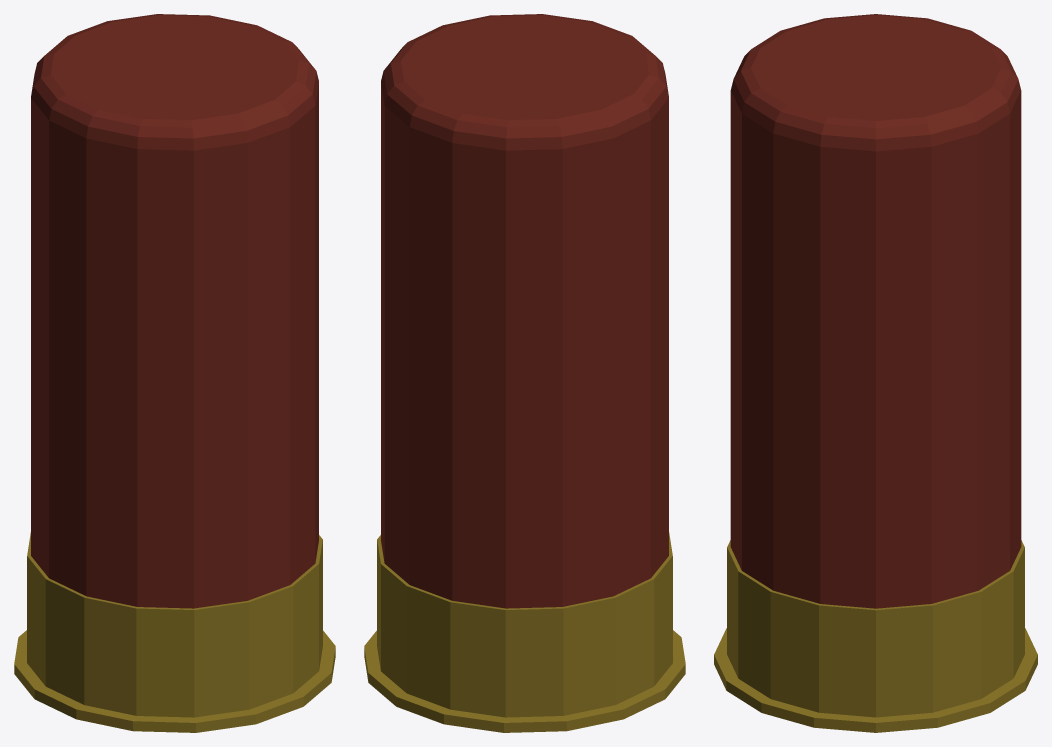
Rendered from Weapon Ammo Props.fbx_Shotgun_Shell.fbx.
3 views of the same model, side by side, from view 1: azimuth 30°, elevation 25°; view 2: azimuth 150°, elevation 25°; view 3: azimuth 270°, elevation 25° (orthographic).
Visible parts, largest first — view 1: Cylinder, Cylinder.001; view 2: Cylinder, Cylinder.001; view 3: Cylinder, Cylinder.001.
Part boxes in pixels (x1,y1,x2,y2): Cylinder: (31, 14, 318, 608); Cylinder.001: (14, 532, 335, 732); Cylinder: (381, 14, 668, 608); Cylinder.001: (364, 532, 685, 732); Cylinder: (730, 14, 1021, 608); Cylinder.001: (714, 540, 1037, 732).
Size of the model in its own units: 90.62 by 184 by 90.62.
